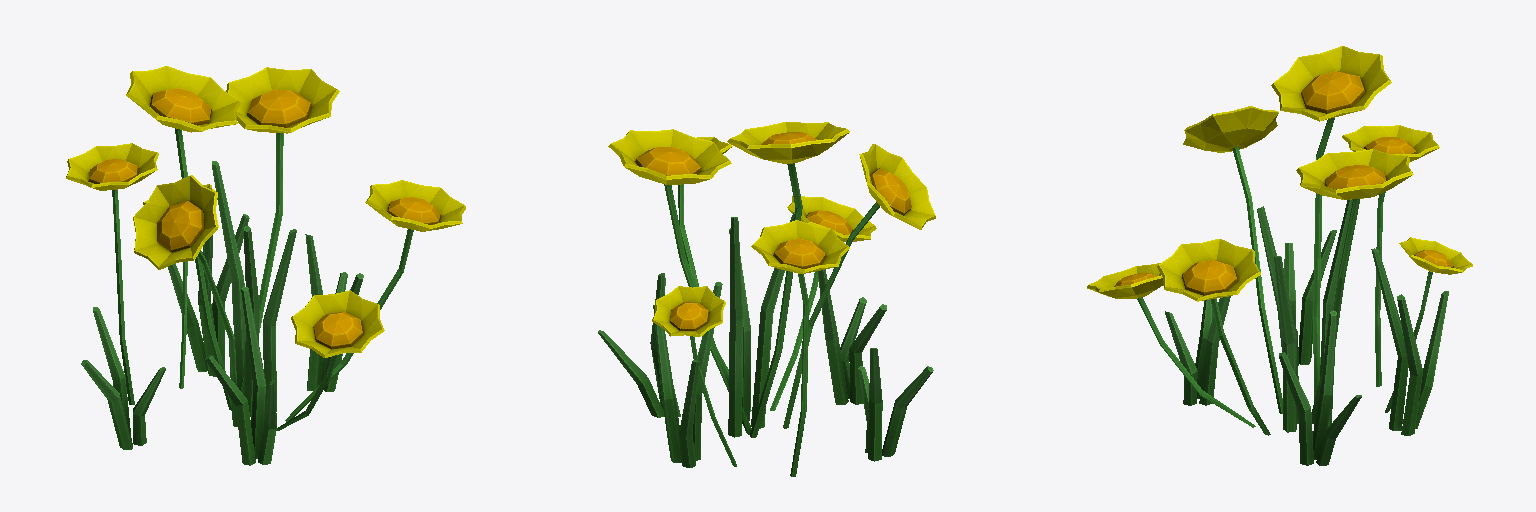
The picture shows the model from 3 angles: view 1: azimuth 30°, elevation 25°; view 2: azimuth 150°, elevation 25°; view 3: azimuth 270°, elevation 25°; orthographic projection.
Visible parts, largest first — view 1: DesertMarigold_mesh; view 2: DesertMarigold_mesh; view 3: DesertMarigold_mesh.
Part boxes in pixels (left/top/right/bottom): DesertMarigold_mesh: left=66, top=66, right=465, bottom=465; DesertMarigold_mesh: left=598, top=122, right=935, bottom=476; DesertMarigold_mesh: left=1087, top=46, right=1472, bottom=465.
Size of the model in its own units: 6.62 by 6.2 by 6.55.
1 materials, 1 textured.